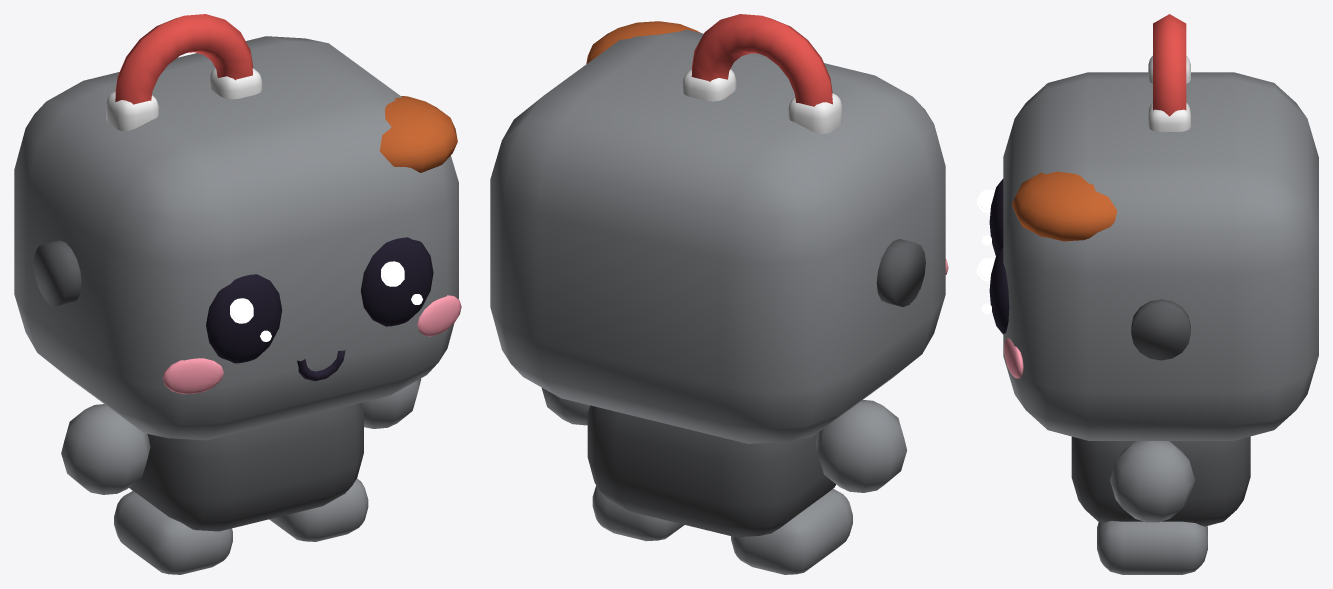
3 views of the same model, side by side, from view 1: azimuth 30°, elevation 25°; view 2: azimuth 150°, elevation 25°; view 3: azimuth 270°, elevation 25° (orthographic). The views are drawn at different scales.
Parts seen in each view (by area): view 1: fe; view 2: fe; view 3: fe.
Boxes of the visible parts, bbox=[...] form: fe: bbox=[14, 14, 461, 574]; fe: bbox=[490, 14, 948, 574]; fe: bbox=[977, 14, 1318, 574].
Size of the model in its own units: 0.7373 by 1 by 0.6285.
